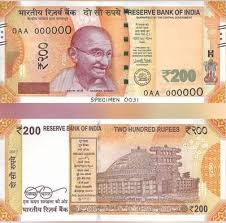twoHundred: (19, 19, 214, 88)
